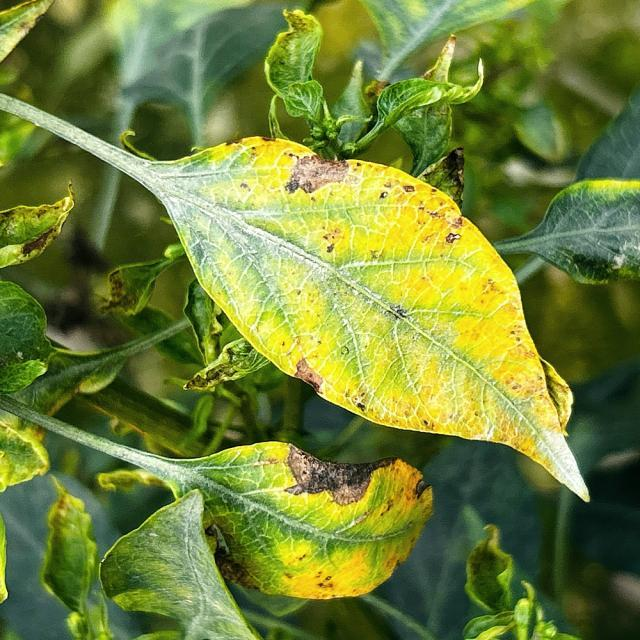Bercak Daun Serkospora: (1, 89, 592, 502), (167, 438, 442, 607)
